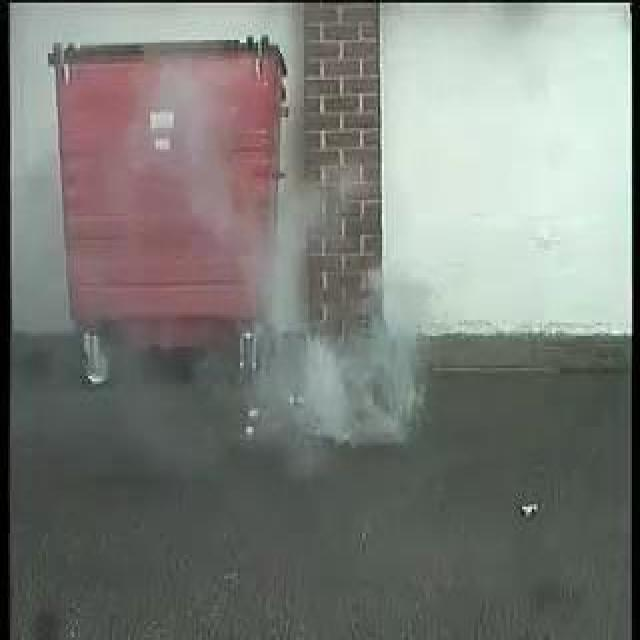Smoke: (236, 184, 430, 445)
